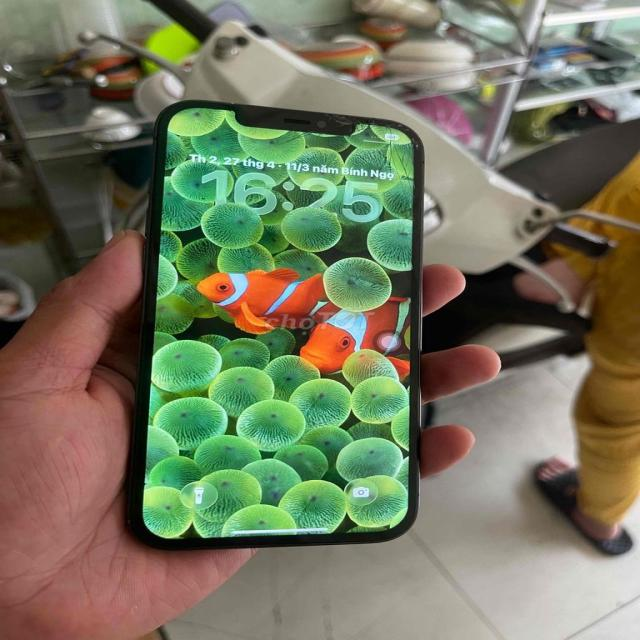gen_12_13: (124, 94, 430, 548)
scratch: (327, 111, 356, 126), (404, 126, 421, 150), (384, 119, 403, 133), (360, 116, 380, 125)
